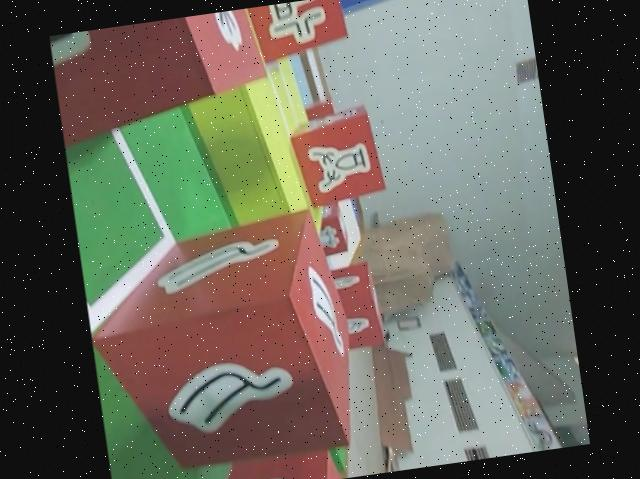R2 Real: (77, 202, 368, 479), (49, 6, 277, 152), (284, 100, 391, 211), (235, 0, 354, 69), (183, 442, 354, 479)
